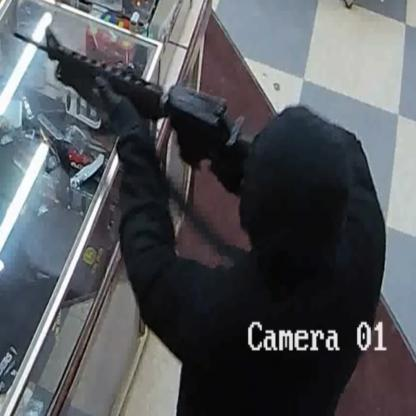al: (10, 19, 251, 180)
